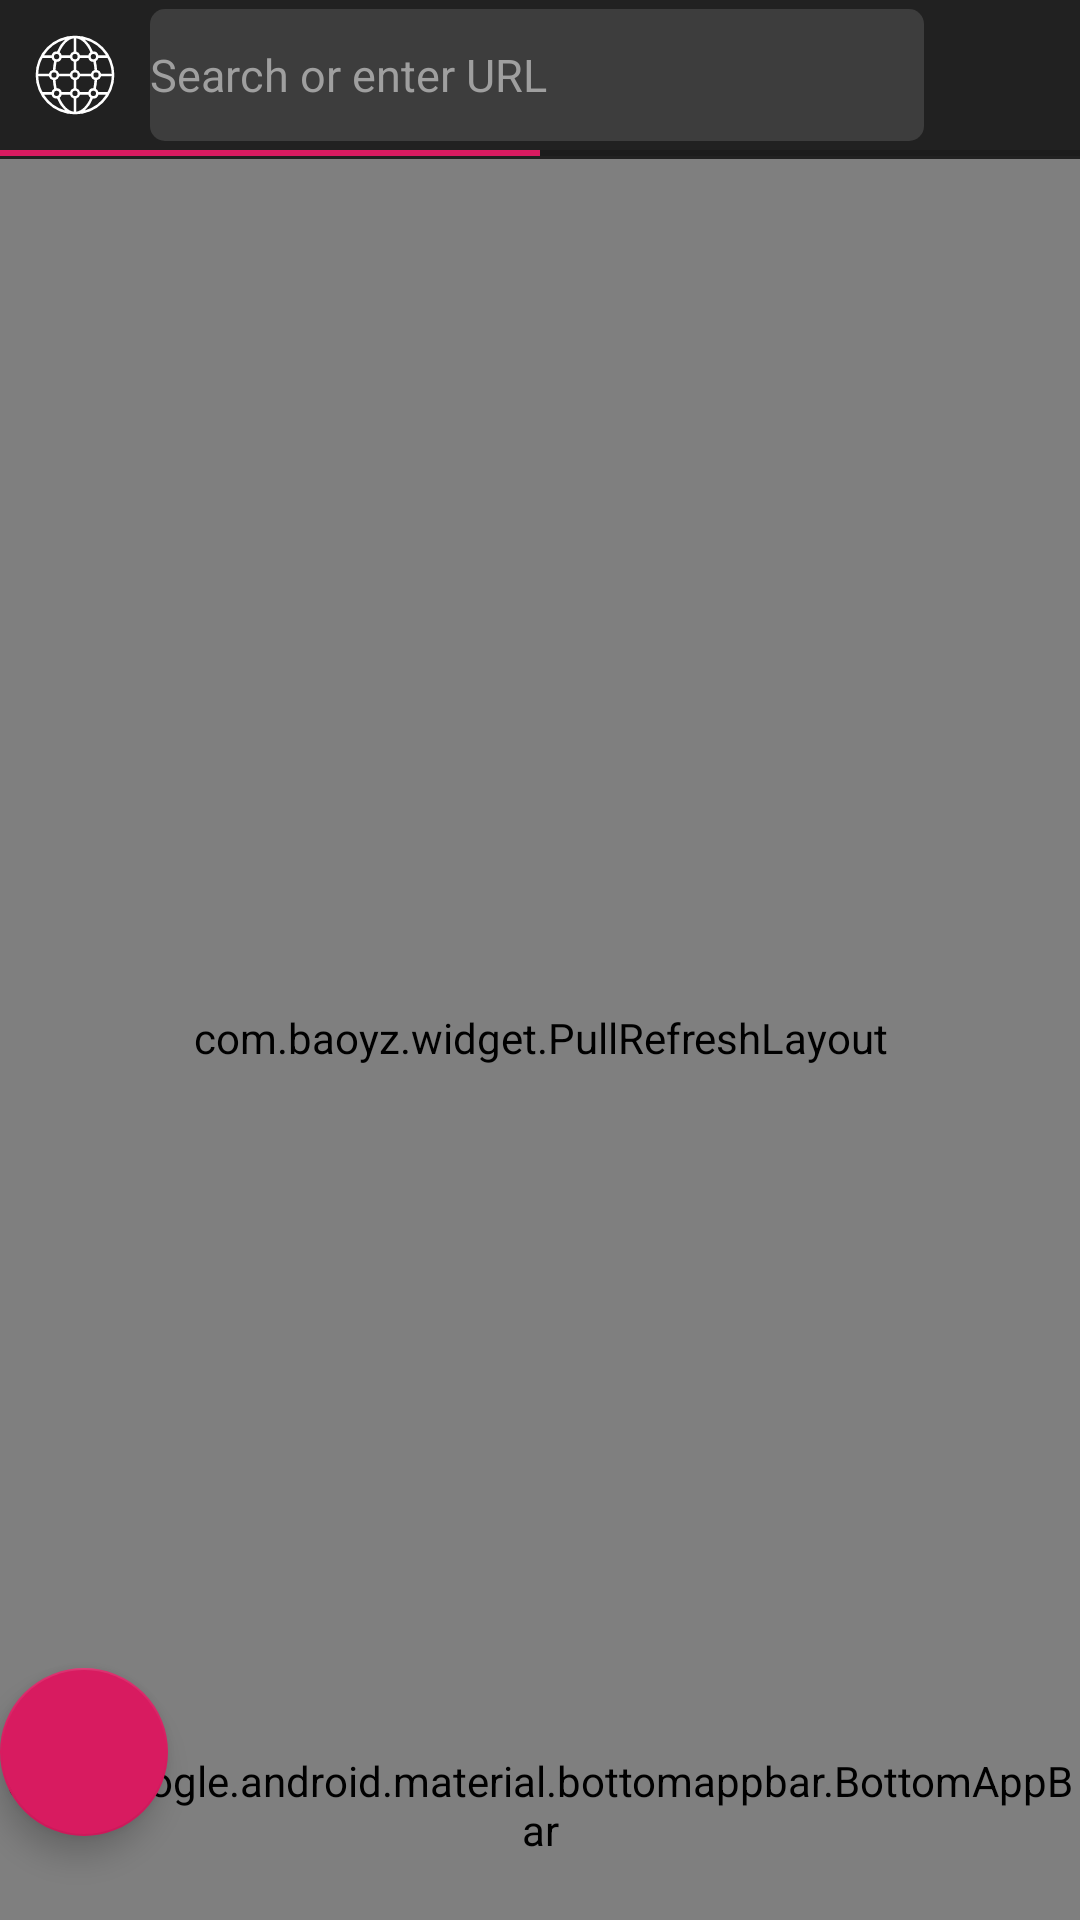

Screen size 1080px x 1920px. Icon name, then its center in pixels as (x=x, y=y):
favicon: (x=75, y=75)
